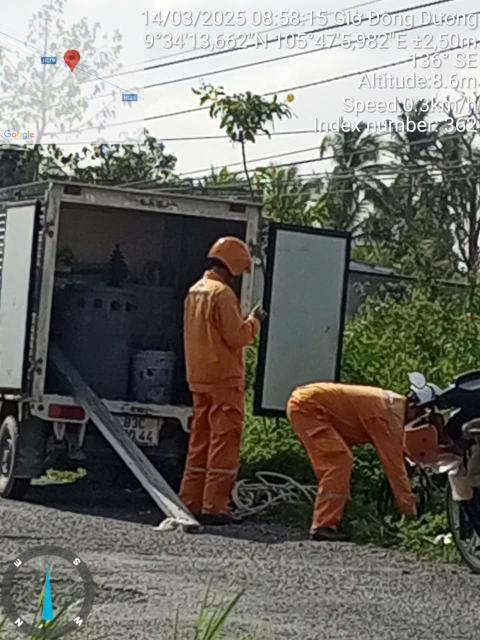helmet: (203, 222, 267, 271)
shoes: (310, 524, 351, 543)
